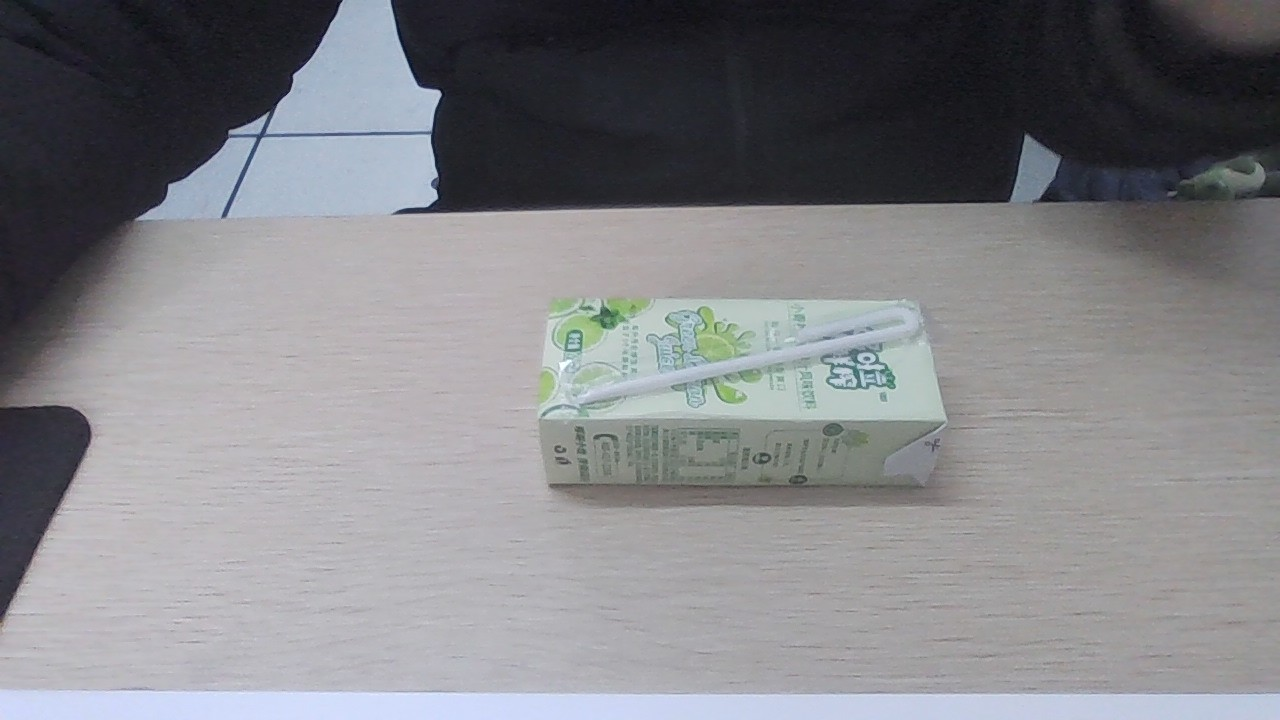CY-drink: (533, 291, 937, 500)
